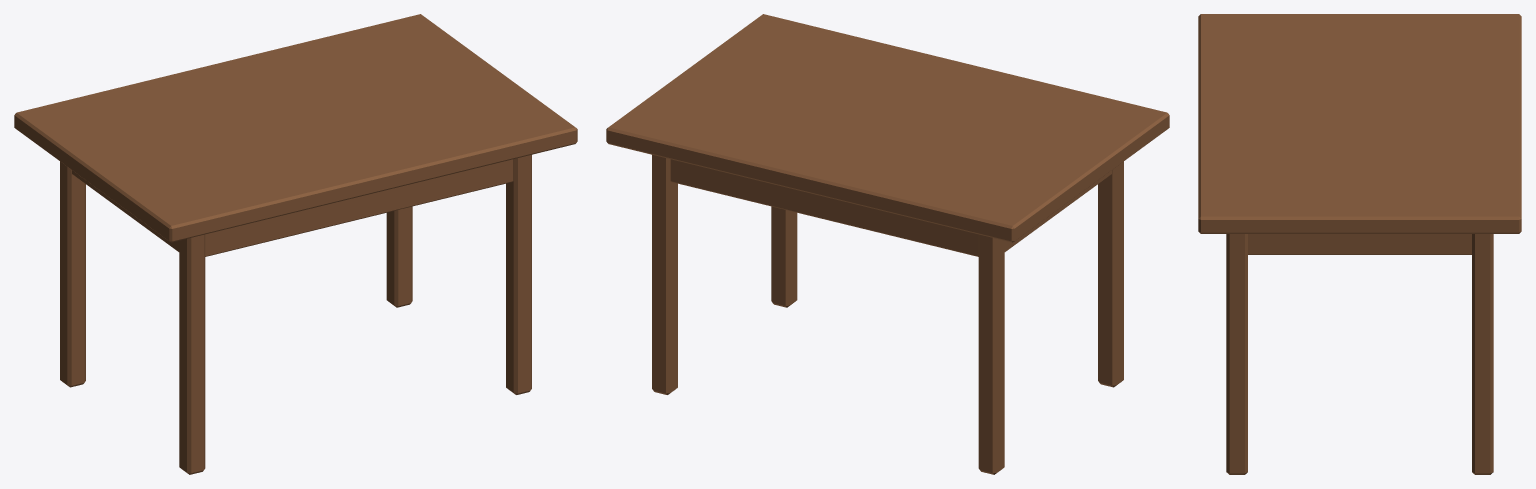
The model's file is modern-table.glb.
3 views of the same model, side by side, from view 1: azimuth 30°, elevation 25°; view 2: azimuth 150°, elevation 25°; view 3: azimuth 270°, elevation 25° (orthographic). The views are drawn at different scales.
Parts seen in each view (by area): view 1: Board, Board.006, Board.002, Board.004, Board.001, Board.003; view 2: Board, Board.005, Board.001, Board.003, Board.002, Board.004; view 3: Board, Board.003, Board.004, Board.008.
Part boxes in pixels (x1=…): Board: x1=14, y1=14, x2=577, y2=242; Board.006: x1=205, y1=159, x2=513, y2=256; Board.002: x1=179, y1=234, x2=205, y2=474; Board.004: x1=506, y1=154, x2=531, y2=394; Board.001: x1=60, y1=161, x2=85, y2=387; Board.003: x1=386, y1=206, x2=412, y2=307; Board: x1=606, y1=14, x2=1169, y2=242; Board.005: x1=670, y1=159, x2=978, y2=256; Board.001: x1=978, y1=234, x2=1004, y2=474; Board.003: x1=652, y1=154, x2=677, y2=394; Board.002: x1=1098, y1=161, x2=1123, y2=387; Board.004: x1=771, y1=206, x2=797, y2=307; Board: x1=1198, y1=14, x2=1521, y2=233; Board.003: x1=1472, y1=234, x2=1493, y2=474; Board.004: x1=1226, y1=234, x2=1247, y2=474; Board.008: x1=1248, y1=234, x2=1471, y2=254.
Size of the model in its own units: 1.2 by 0.75 by 0.8.
